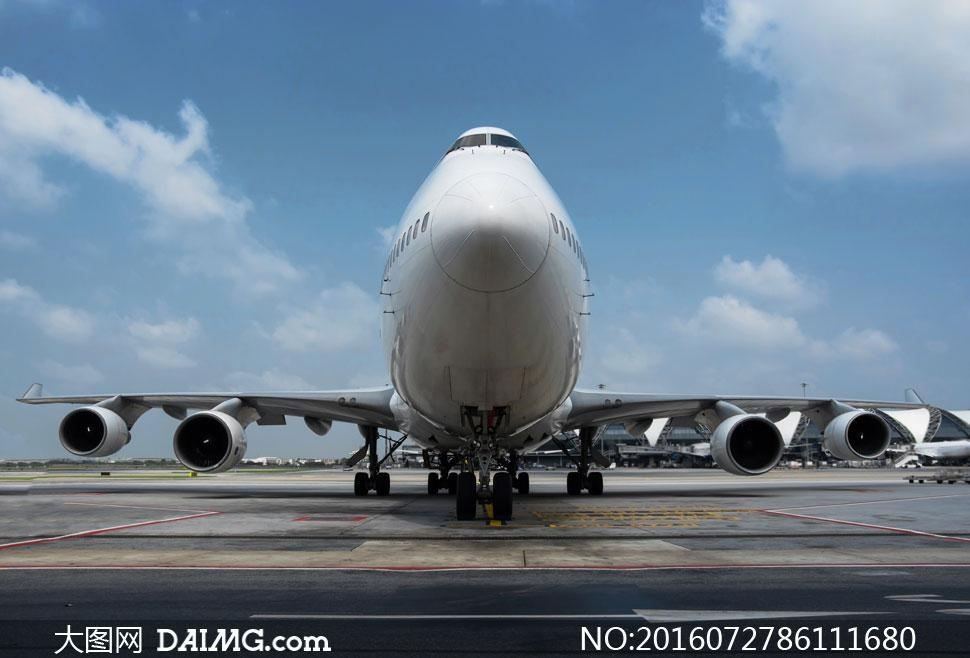airplane: (14, 121, 946, 480)
